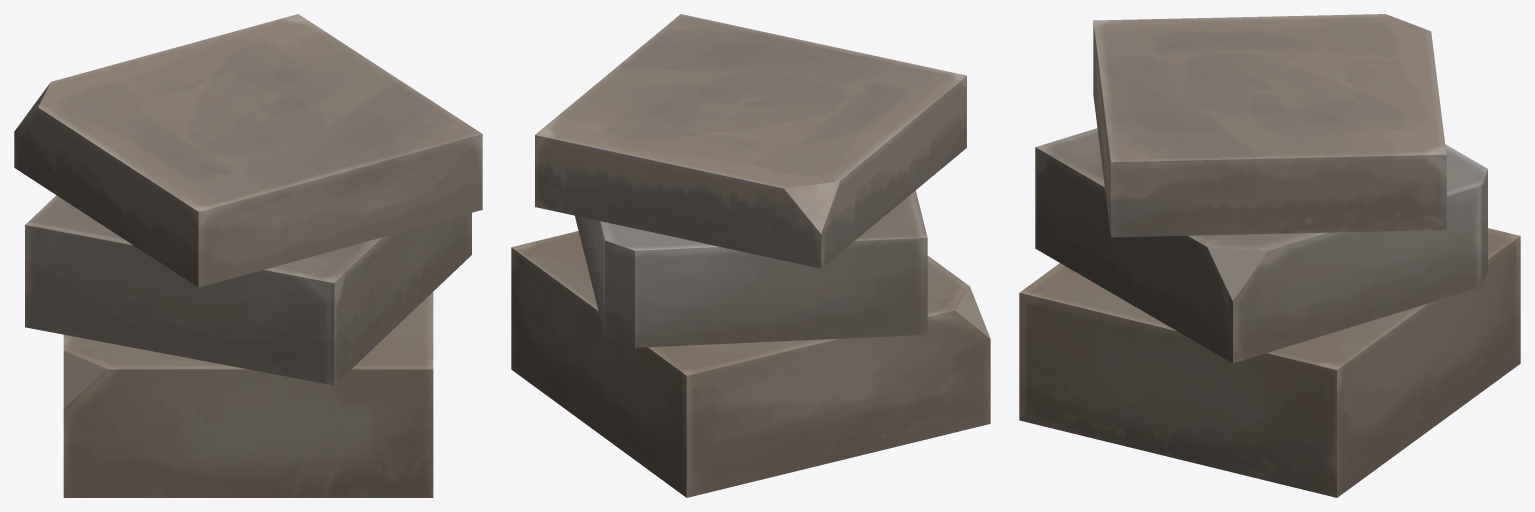
The model's file is foundation_container02.fbx.
The picture shows the model from 3 angles, left to right: view 1: azimuth 30°, elevation 25°; view 2: azimuth 150°, elevation 25°; view 3: azimuth 270°, elevation 25°; orthographic projection. The views are drawn at different scales.
Visible parts, largest first — view 1: foundation_container02; view 2: foundation_container02; view 3: foundation_container02.
Boxes of the visible parts, left/top/right/bottom form: foundation_container02: left=14, top=14, right=482, bottom=497; foundation_container02: left=511, top=14, right=990, bottom=497; foundation_container02: left=1019, top=14, right=1520, bottom=497.
Size of the model in its own units: 74.59 by 50 by 74.59.
